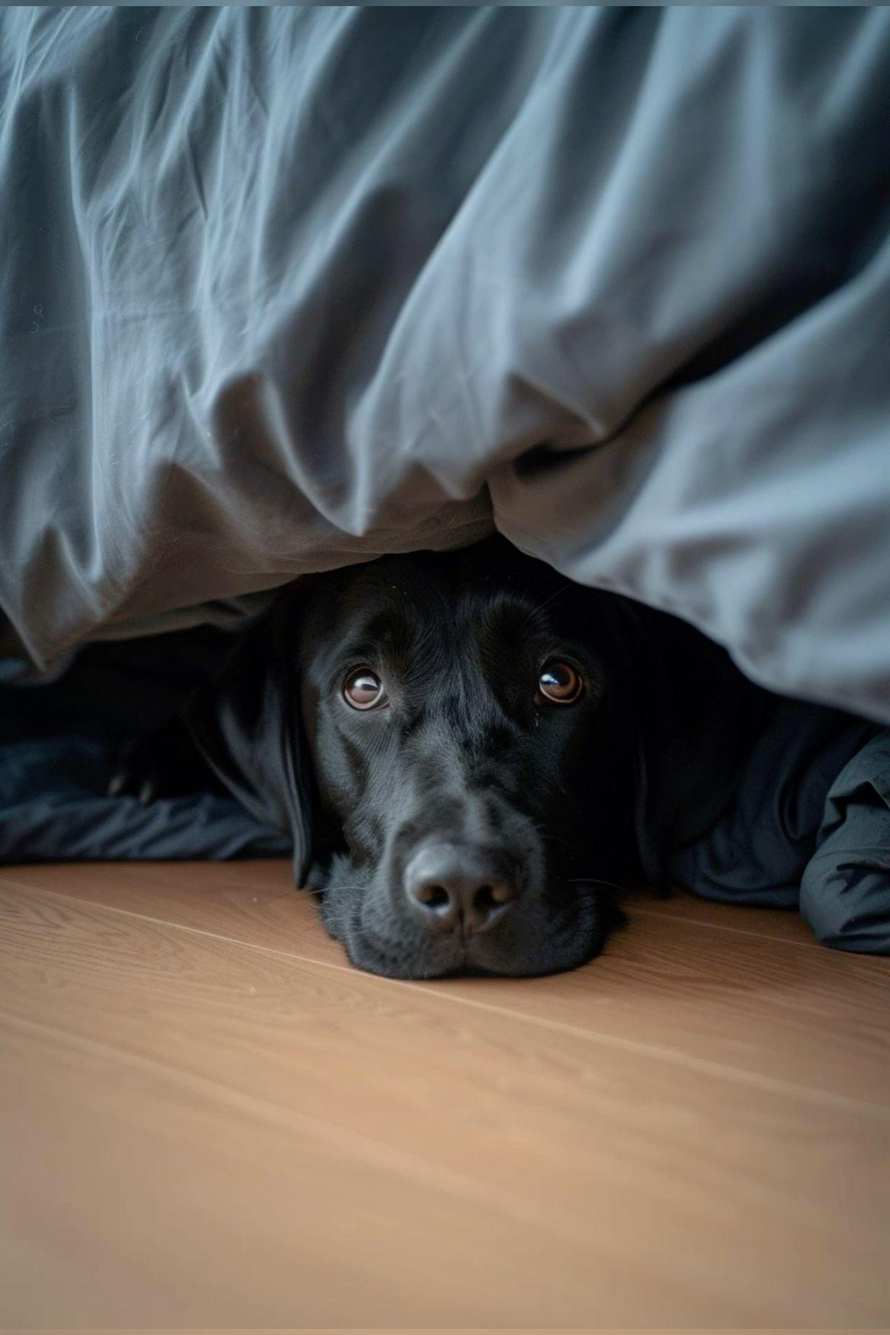adult_dog: (166, 537, 761, 984)
